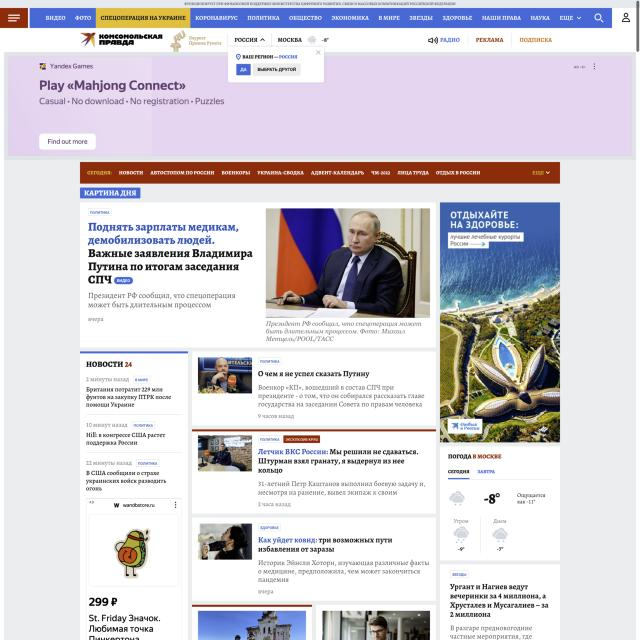CheckBox: (40, 133, 96, 150)
ImageView: (440, 202, 561, 444), (85, 498, 180, 640)
Input field: (86, 290, 238, 310)
ProgressBar: (0, 0, 634, 8)
QR code: (192, 351, 436, 602)
RadioButton: (114, 276, 133, 284)
Spinner: (79, 202, 436, 348), (191, 430, 435, 513), (191, 518, 435, 600), (192, 350, 434, 425), (440, 446, 560, 561)
alert: (557, 12, 584, 25), (531, 167, 551, 177)
bag: (0, 0, 635, 52)
breadcrumbs: (81, 188, 140, 198)
card: (4, 52, 638, 159)
carousel: (621, 11, 632, 25)
copy: (266, 208, 430, 318)
date picker: (79, 30, 165, 49)
decoration: (29, 9, 590, 28), (79, 162, 560, 184), (426, 34, 554, 46), (0, 7, 28, 29)
label: (228, 46, 324, 83)
